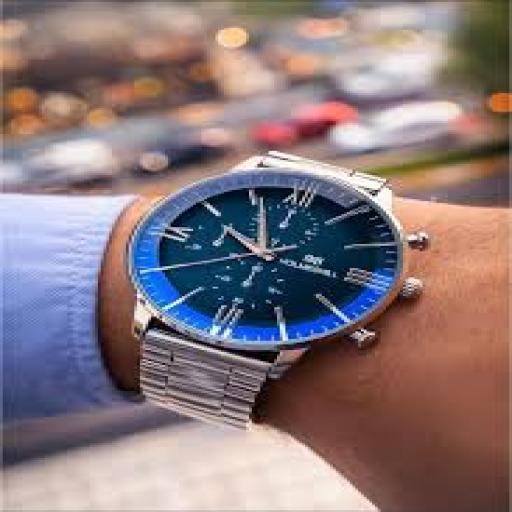KolSaati: (95, 102, 443, 444)
